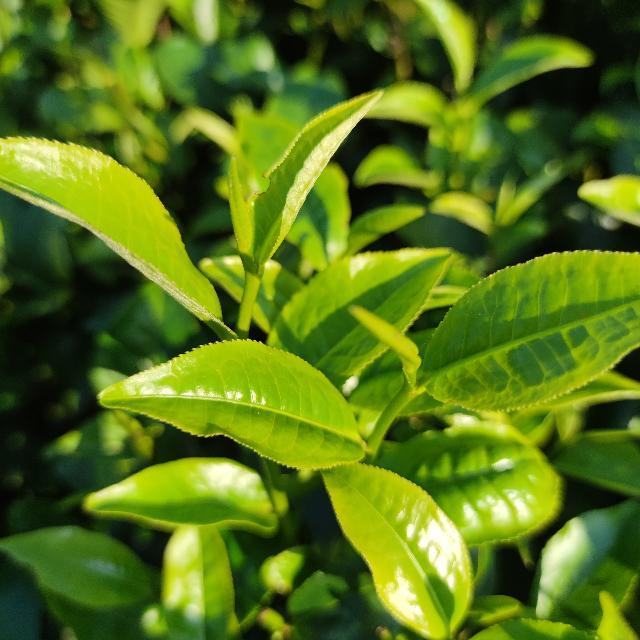Stem: (401, 385, 417, 399), (246, 273, 260, 285)
